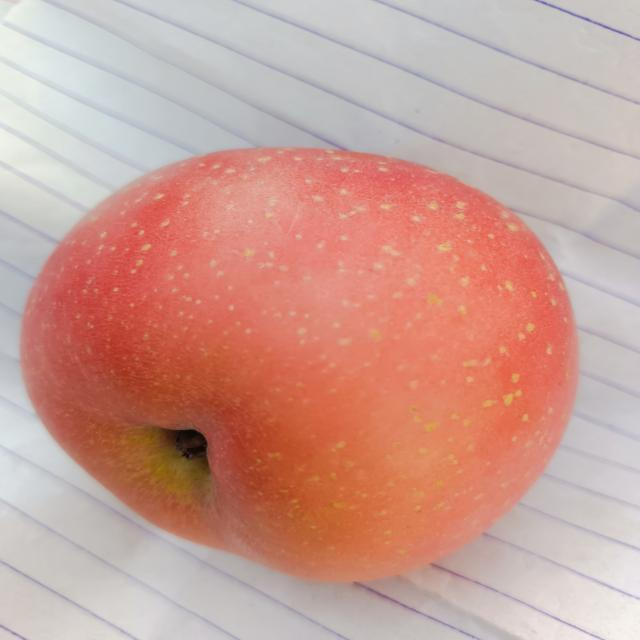Fresh Apple: (16, 137, 582, 580)
